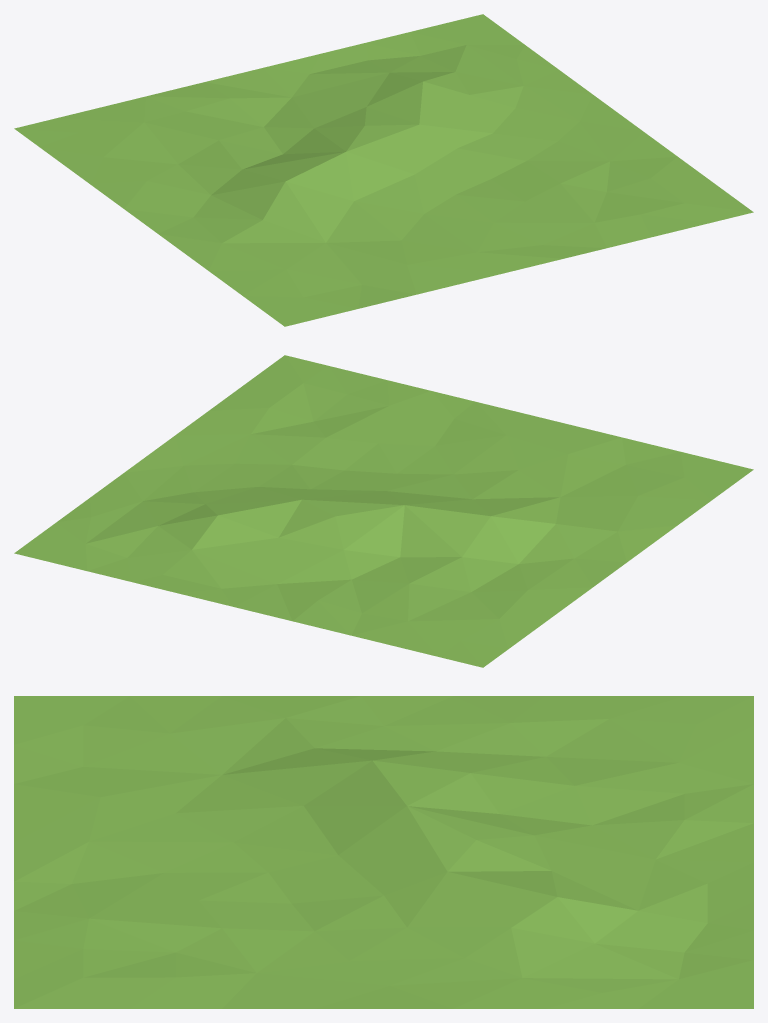
File: MT_Terrain_S_a_06_LOD.fbx
The picture shows the model from 3 angles, top to bottom: view 1: azimuth 30°, elevation 25°; view 2: azimuth 150°, elevation 25°; view 3: azimuth 270°, elevation 25°; orthographic projection. The views are drawn at different scales.
Parts seen in each view (by area): view 1: MT_Terrain_S_a_06_LOD0; view 2: MT_Terrain_S_a_06_LOD0; view 3: MT_Terrain_S_a_06_LOD0.
Boxes of the visible parts, <box> form: MT_Terrain_S_a_06_LOD0: <box>14,14,753,326</box>; MT_Terrain_S_a_06_LOD0: <box>14,355,753,667</box>; MT_Terrain_S_a_06_LOD0: <box>14,696,753,1008</box>.
Size of what is drawn, in the model's own units: 2500 by 109 by 2500.
